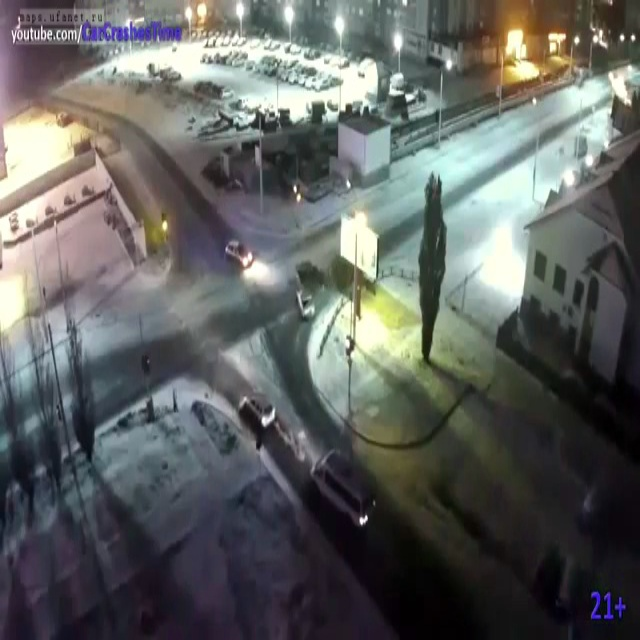acc: (286, 259, 332, 327)
